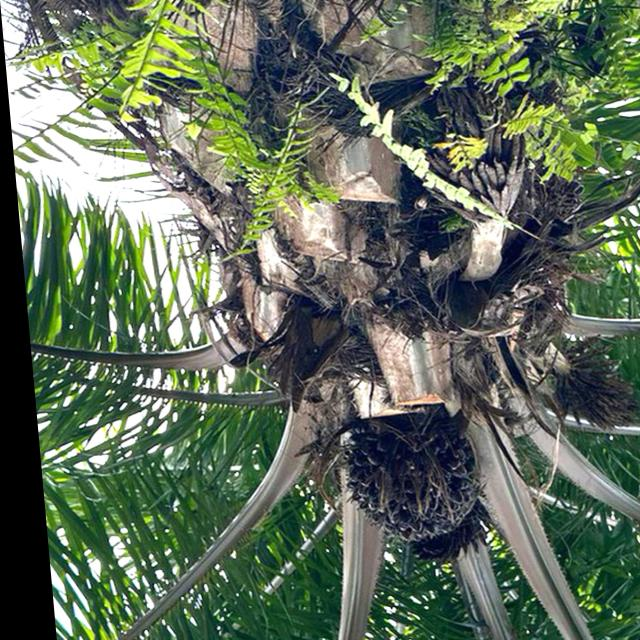ripe: (316, 401, 490, 556)
